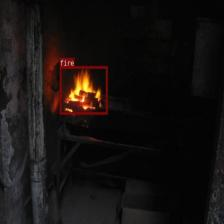fire: (59, 66, 107, 114)
